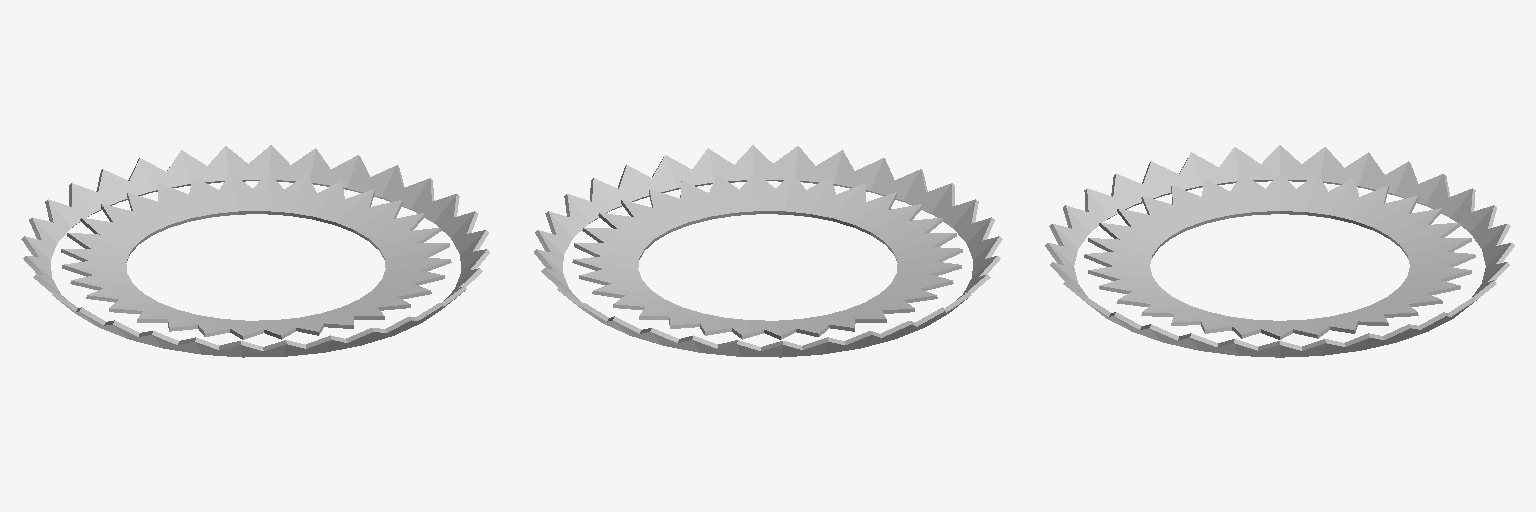
File: portal.obj
The picture shows the model from 3 angles: view 1: azimuth 30°, elevation 25°; view 2: azimuth 150°, elevation 25°; view 3: azimuth 270°, elevation 25°; orthographic projection.
Parts seen in each view (by area): view 1: Circle, Circle.001; view 2: Circle, Circle.001; view 3: Circle, Circle.001.
Part boxes in pixels (x1,y1,x2,y2): Circle: (61,172,451,339); Circle.001: (21,145,489,357); Circle: (572,172,962,339); Circle.001: (534,145,1002,357); Circle: (1084,172,1475,339); Circle.001: (1045,145,1514,357).
Bounding box in the file's own units: 3.6 × 0.2255 × 3.6.